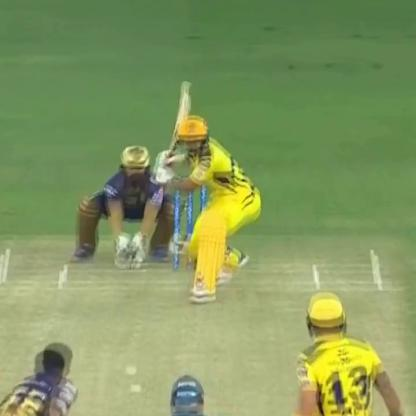ball: (126, 379, 149, 395), (121, 360, 139, 377)
bat: (156, 72, 195, 182)
pitch: (4, 250, 416, 416)
